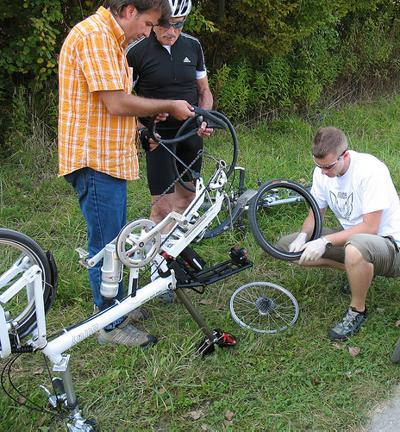person: (55, 1, 197, 349)
